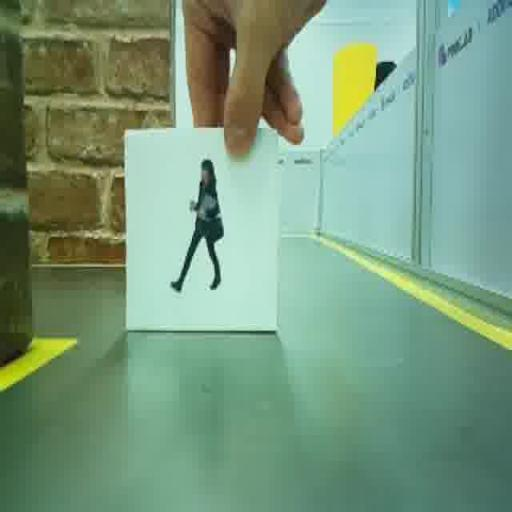human: (170, 159, 223, 291)
